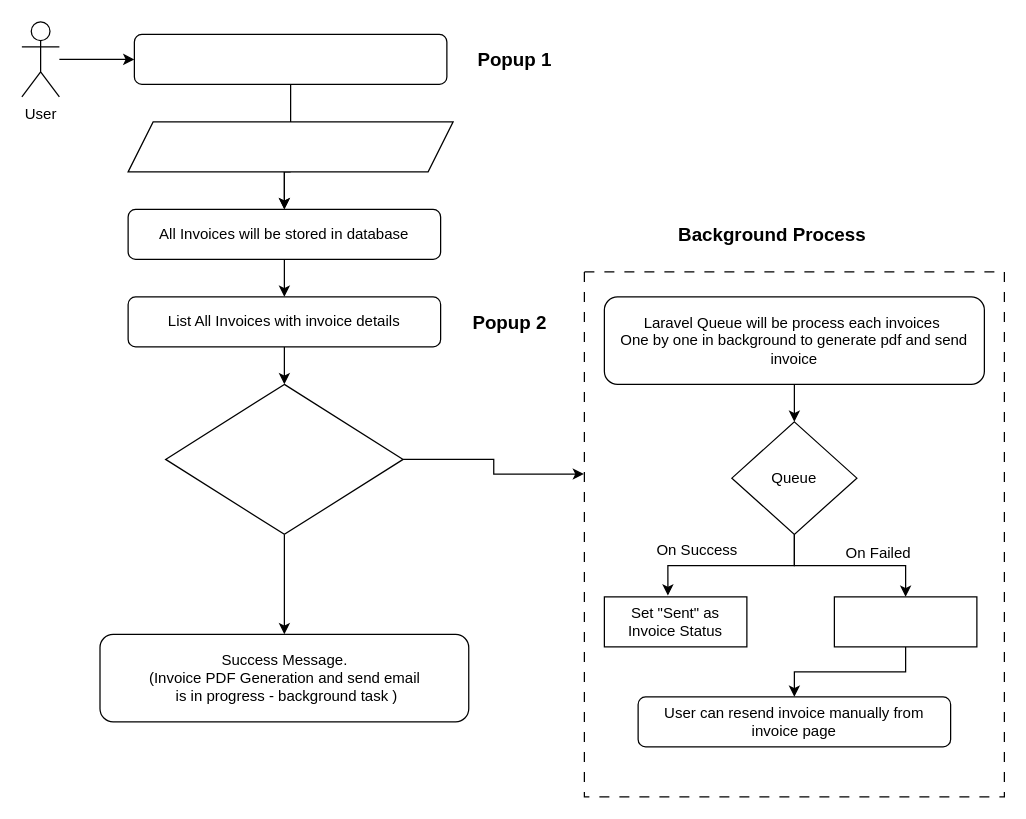
The diagram is 1026 pixels wide and 819 high, and some of its shapes have lost their labels. Here are the shapes that lost their labels. From the top down, the box of each, then its label:
(133, 33, 447, 84): List All claims With PR & Adjust amount
(127, 121, 453, 172): On "Create Invoice" Button click
(164, 383, 403, 534): Set "In Queue" as Invoice Status
(833, 596, 977, 647): Set "Failed" as Invoice Status
